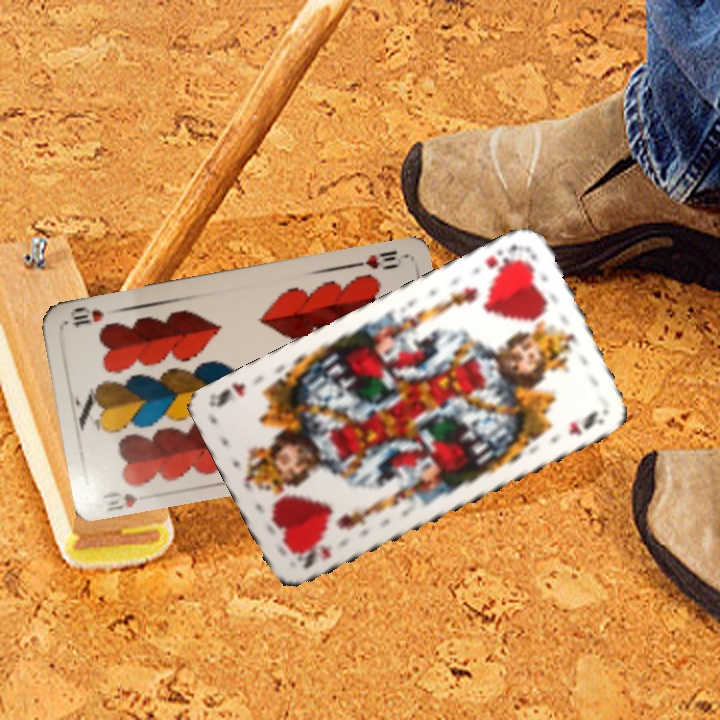H10: (348, 246, 402, 273), (99, 488, 140, 513)
HK: (481, 240, 530, 275), (299, 542, 334, 571)
